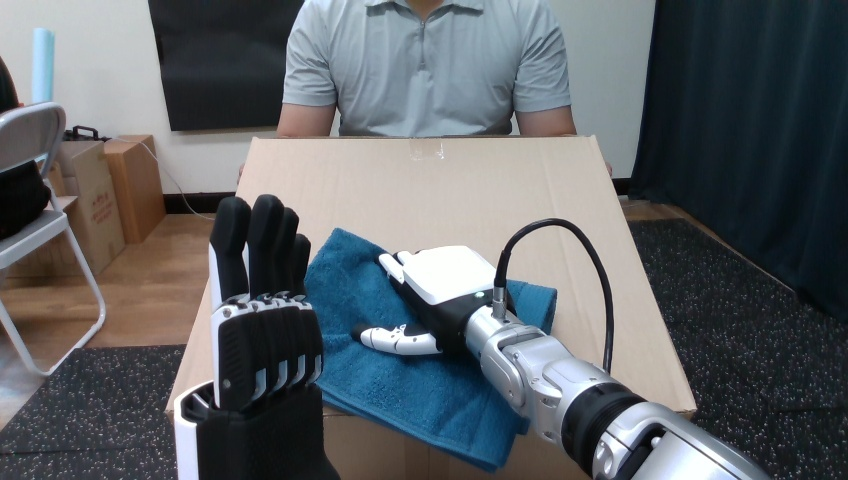left robot hand: (352, 218, 767, 479), (174, 194, 338, 478), (505, 225, 606, 368)
